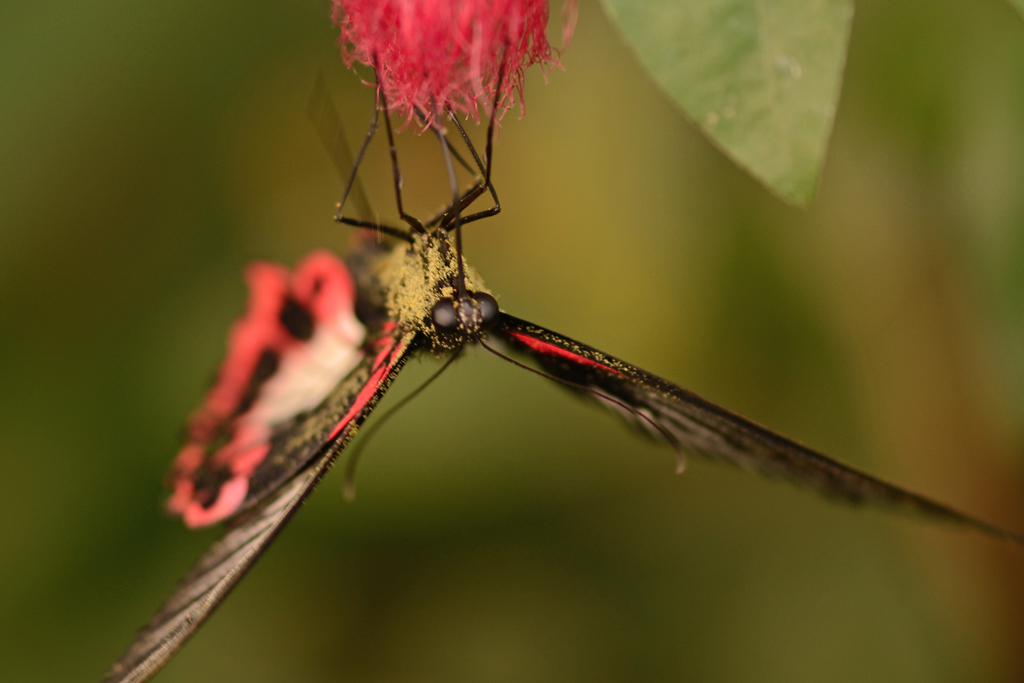Butterfly: (112, 139, 1024, 683)
